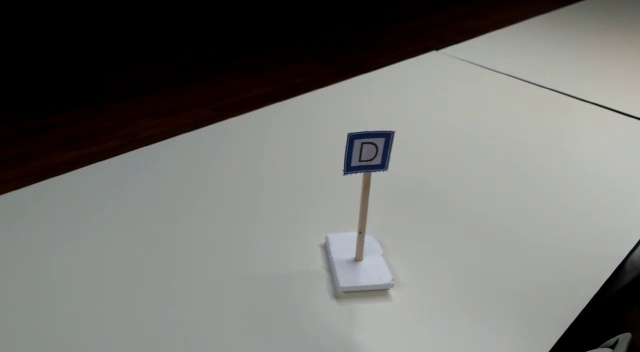durak: (343, 131, 391, 175)
